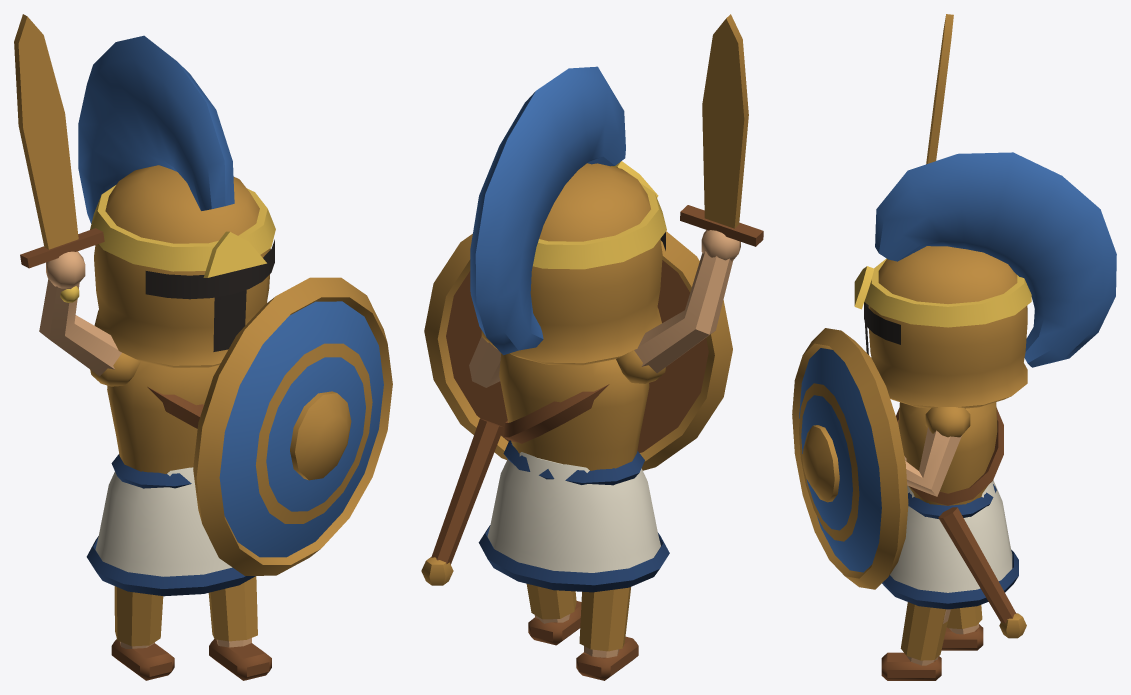
File: deiphobus.glb
3 renders of one model, left to right at view 1: azimuth 30°, elevation 25°; view 2: azimuth 150°, elevation 25°; view 3: azimuth 270°, elevation 25°, orthographic. The views are drawn at different scales.
Parts seen in each view (by area): view 1: deiphobus; view 2: deiphobus; view 3: deiphobus.
Part boxes in pixels (x1,y1,x2,y2): deiphobus: [14, 14, 392, 680]; deiphobus: [421, 14, 763, 680]; deiphobus: [792, 14, 1116, 680].
Bounding box in the file's own units: 0.5522 × 1.03 × 0.5185.
